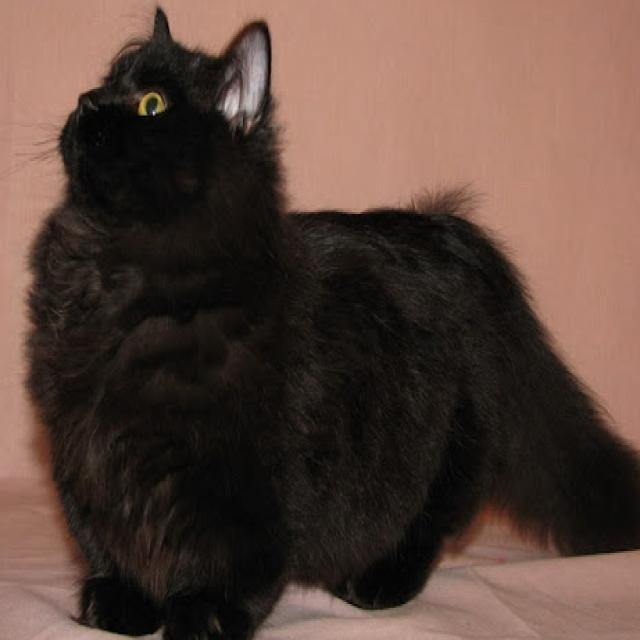Munchkin: (18, 0, 640, 640)
